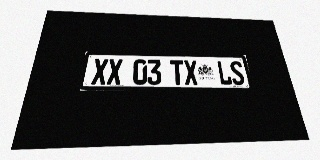0: (133, 59, 147, 85)
3: (147, 59, 161, 85)
L: (216, 61, 233, 85)
S: (229, 61, 246, 85)
T: (170, 60, 185, 85)
X: (91, 58, 108, 85), (106, 59, 123, 85), (183, 60, 199, 85)
